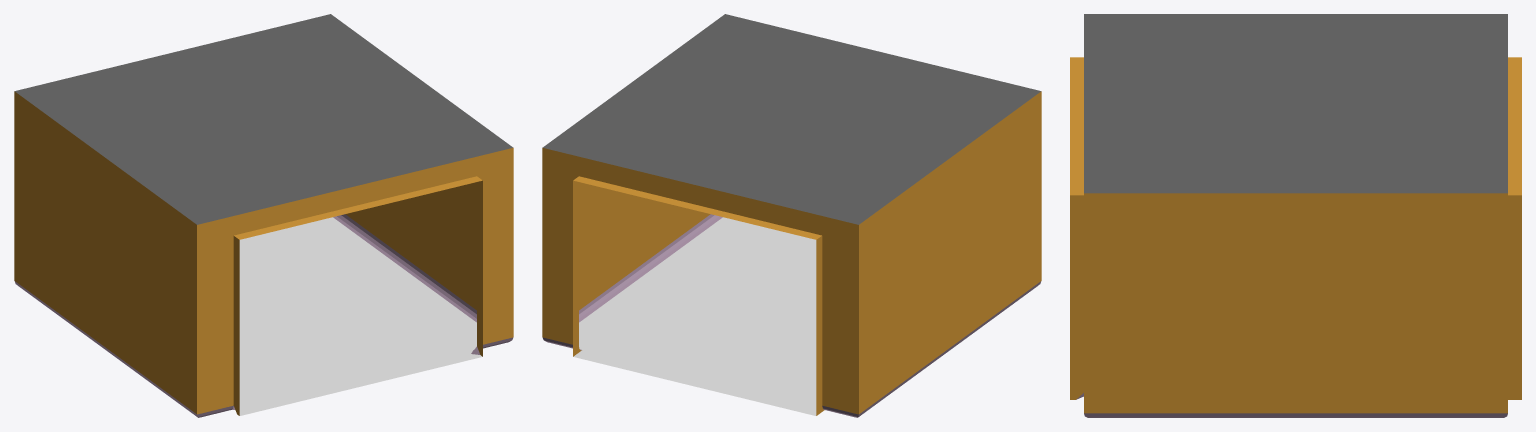
Rendered from simpleCorridor1.fbx.
The picture shows the model from 3 angles, left to right: view 1: azimuth 30°, elevation 25°; view 2: azimuth 150°, elevation 25°; view 3: azimuth 270°, elevation 25°; orthographic projection. The views are drawn at different scales.
Visible parts, largest first — view 1: Plane; view 2: Plane; view 3: Plane.
Part boxes in pixels (x1,y1,x2,y2): Plane: (14,14,513,417); Plane: (542,14,1041,417); Plane: (1070,14,1521,417).
Size of the model in its own units: 845 by 500 by 900.
